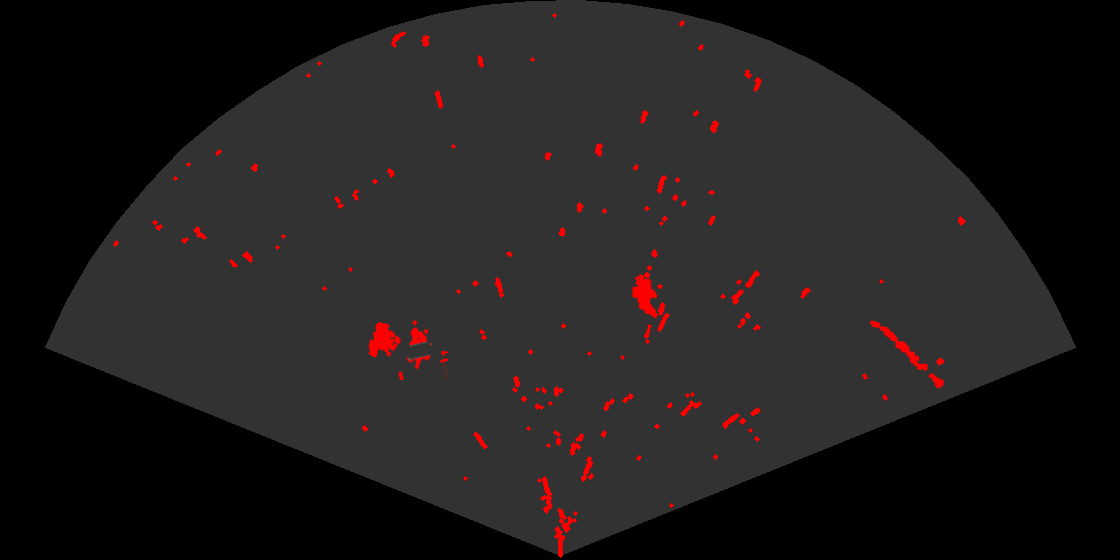AUV: (630, 273, 659, 320)
cage: (367, 318, 448, 380)
chain: (868, 319, 946, 390)
